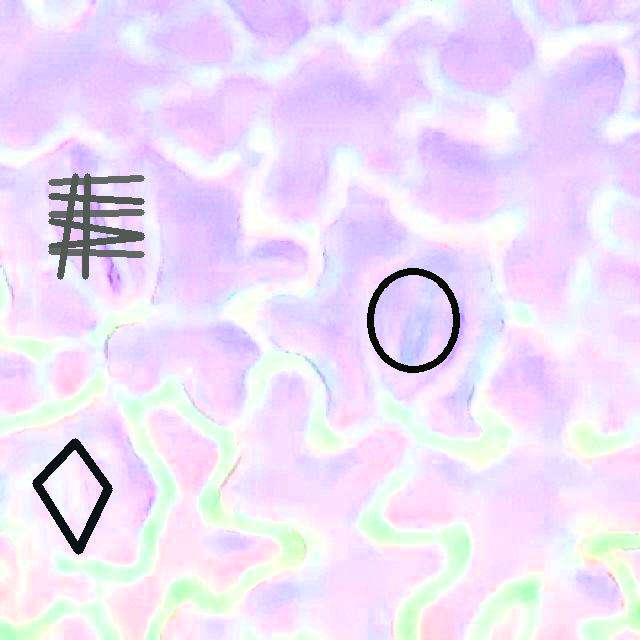close: (32, 439, 112, 553)
open: (48, 173, 144, 279), (366, 268, 460, 372)
